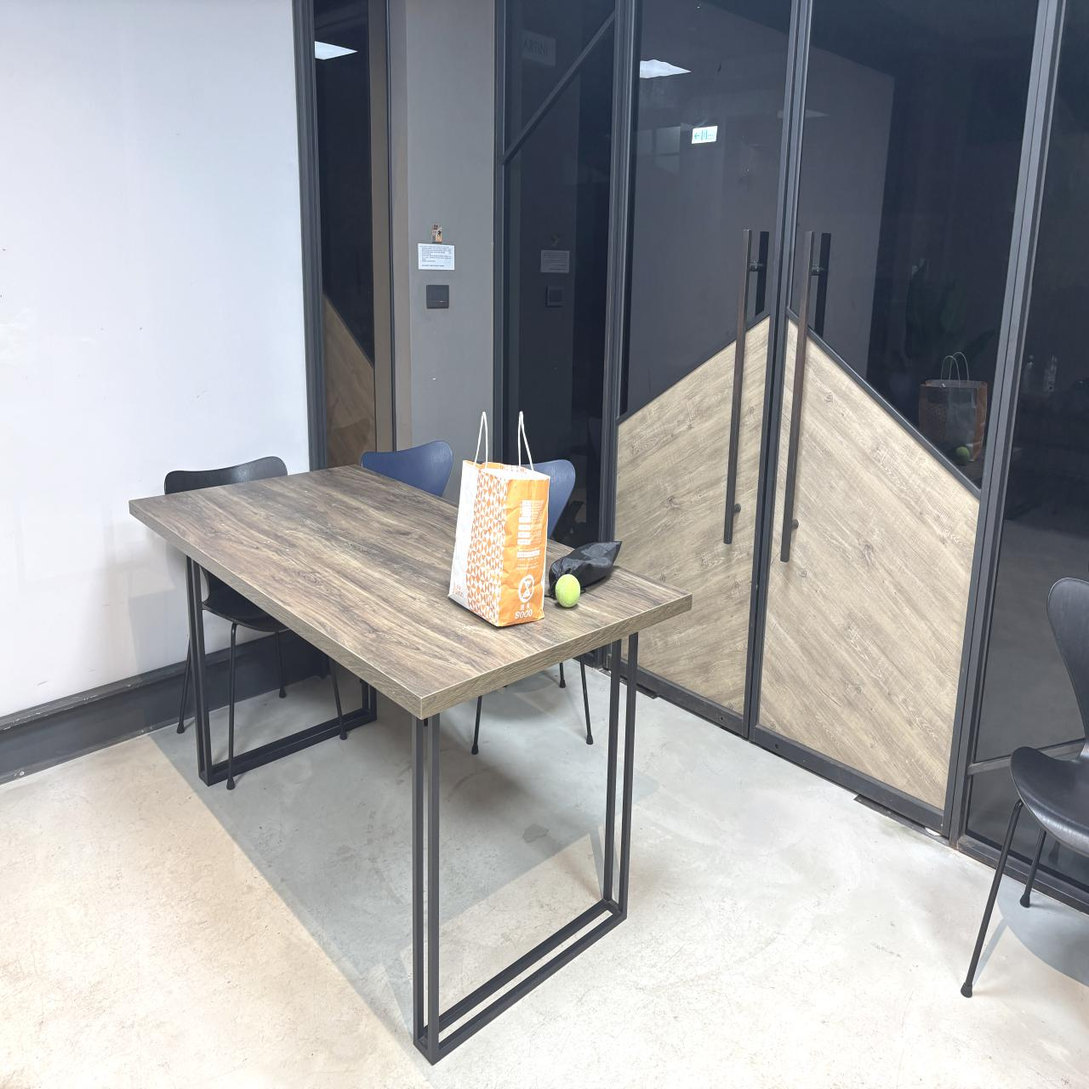tennisball: (555, 575, 580, 607)
